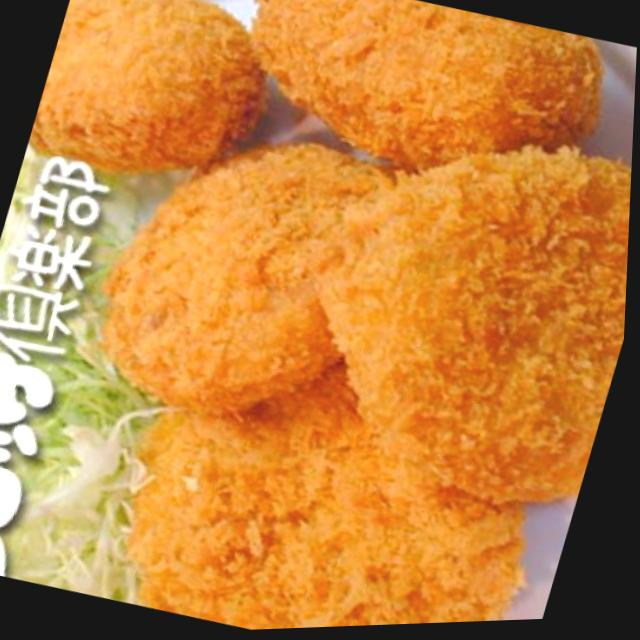炸货点心: (59, 0, 640, 638)
